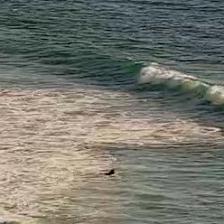surfer: (104, 168, 116, 175)
